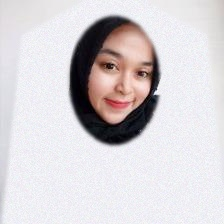Mukena: (2, 0, 224, 224)
